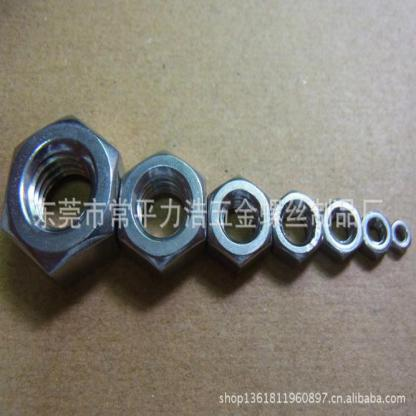FOD: (1, 113, 122, 282), (118, 148, 206, 290), (206, 174, 274, 276), (272, 189, 323, 269), (320, 194, 364, 262), (361, 210, 392, 263), (389, 215, 414, 259)
